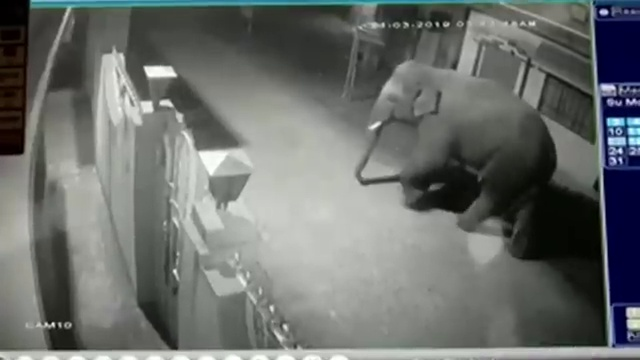Elephant: (354, 61, 557, 260)
